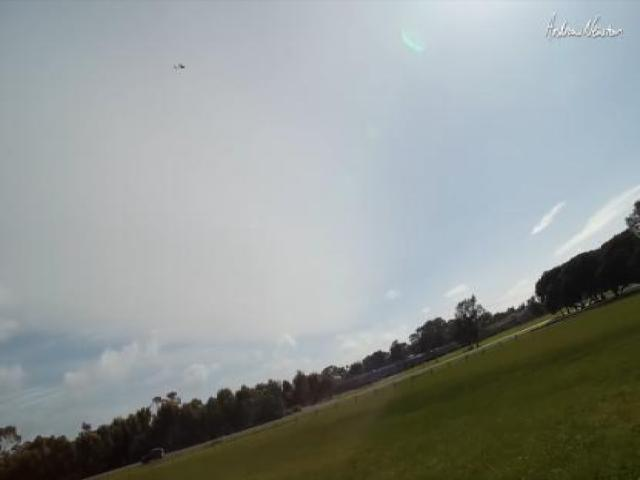uav: (170, 58, 188, 74)
